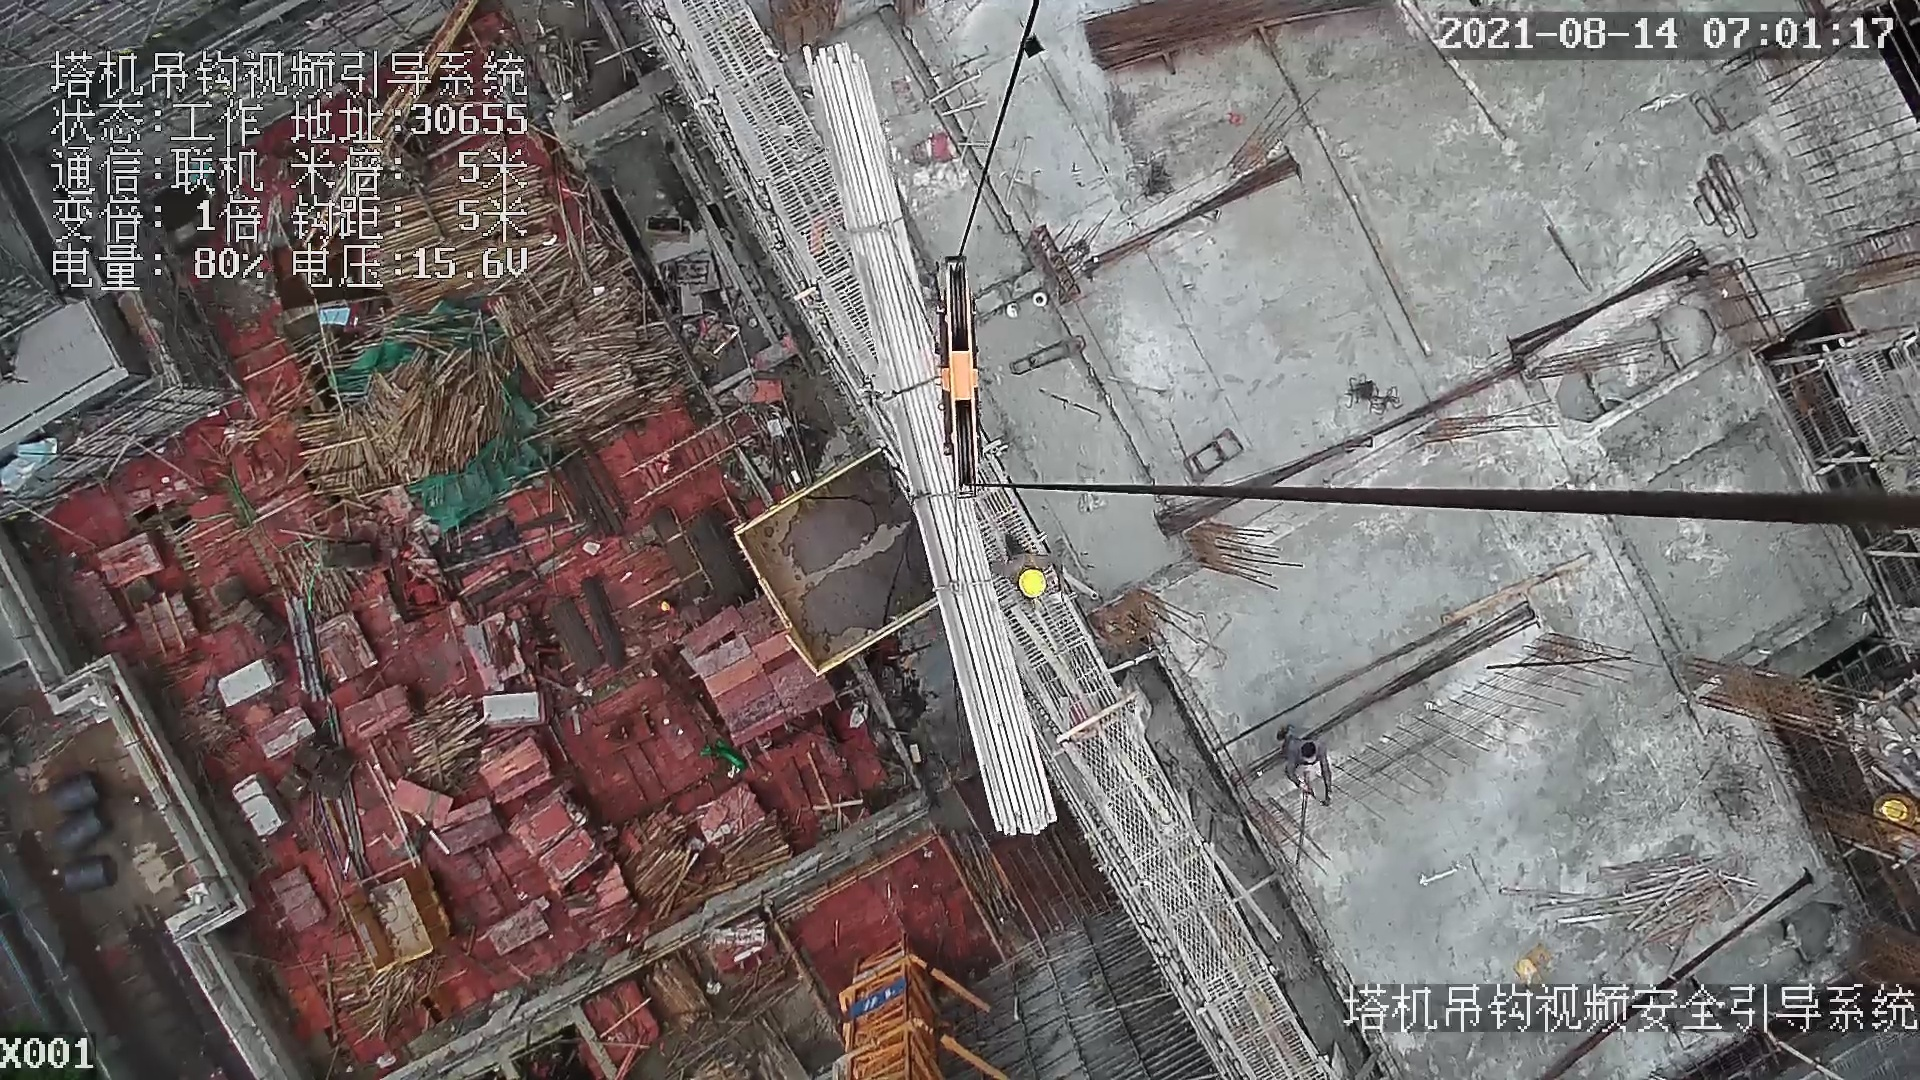helmet: (1016, 564, 1050, 602)
hook: (923, 258, 991, 504)
person: (988, 537, 1069, 606), (1278, 722, 1338, 812)
